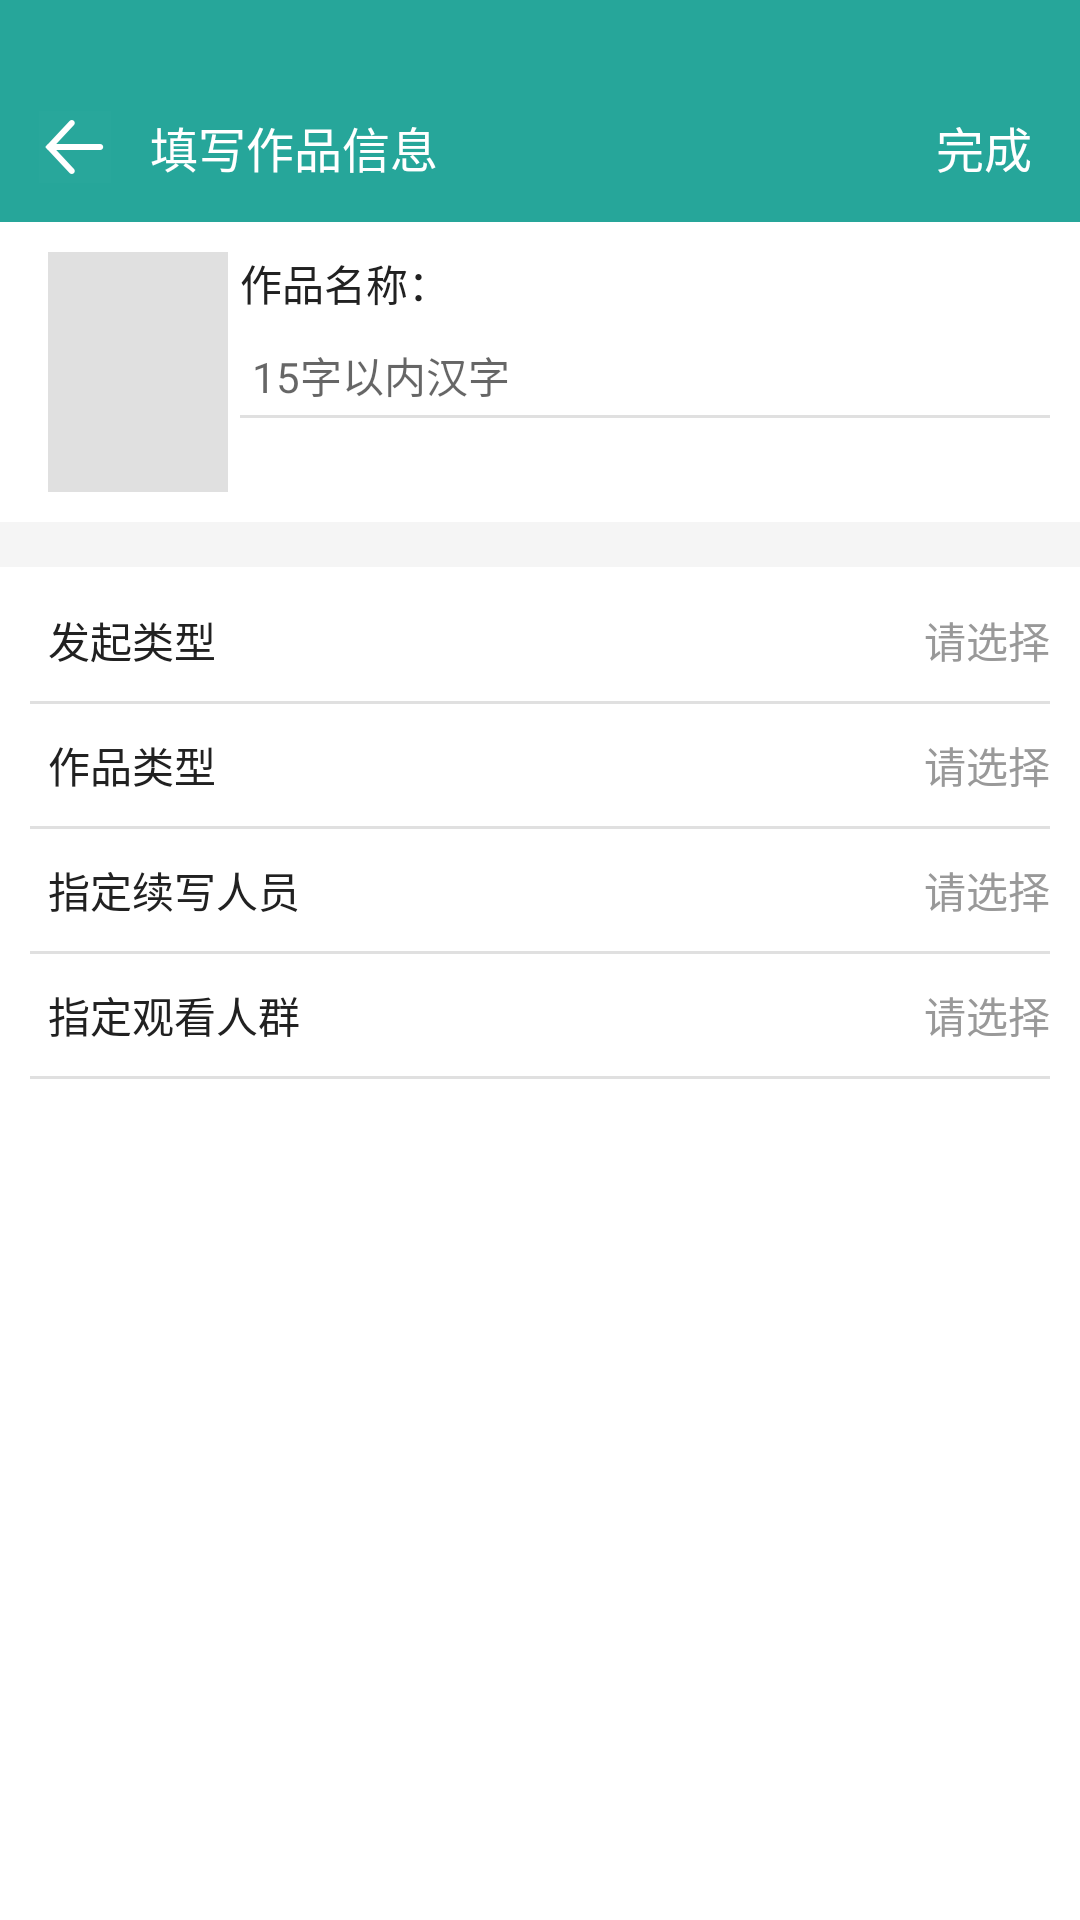

Named icons in this screenshot (1080×1920) and their centers, (x,y):
back: (74,147)
